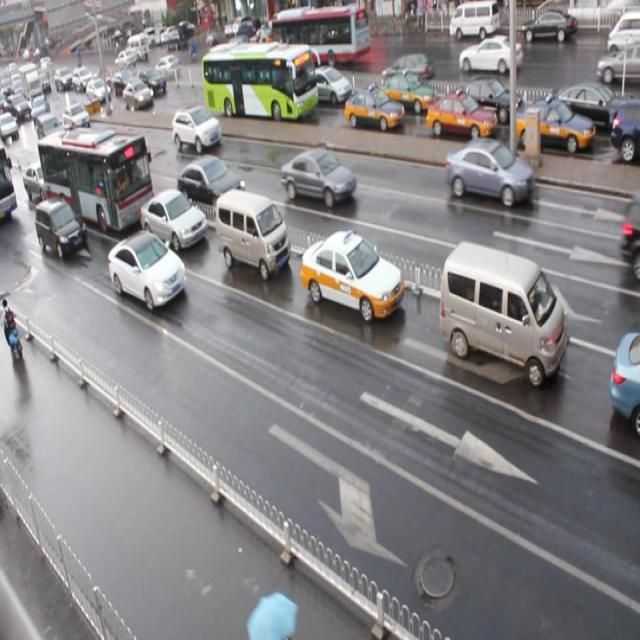car: (300, 229, 403, 321), (445, 137, 533, 213), (107, 230, 187, 312), (280, 148, 357, 211), (514, 101, 594, 160), (140, 188, 208, 252), (544, 79, 622, 134), (178, 155, 248, 214), (426, 94, 495, 144), (608, 330, 640, 432), (36, 196, 86, 260), (455, 77, 521, 124), (344, 88, 403, 132), (172, 106, 222, 156), (378, 74, 436, 116), (304, 66, 352, 107), (610, 99, 640, 161), (22, 160, 62, 204), (122, 82, 155, 109), (64, 105, 93, 133), (139, 66, 166, 94), (113, 68, 138, 96)
truck: (438, 240, 568, 389), (215, 188, 290, 284)
van: (38, 127, 154, 235), (203, 42, 317, 124)
